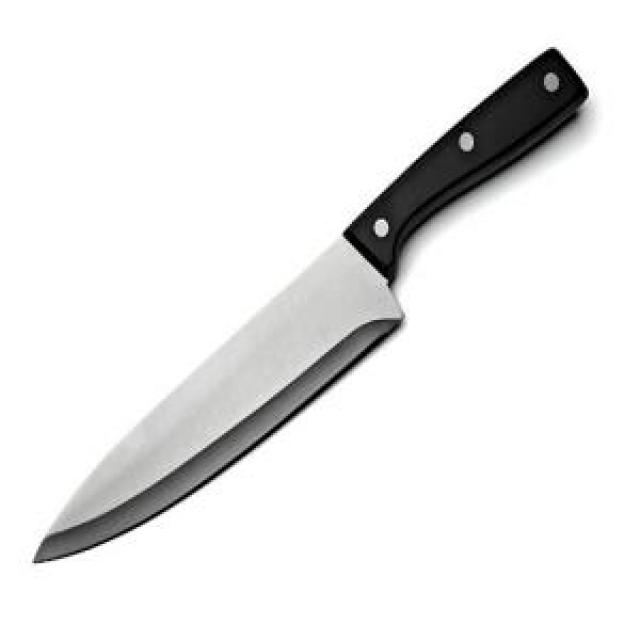knife: (34, 47, 590, 566)
